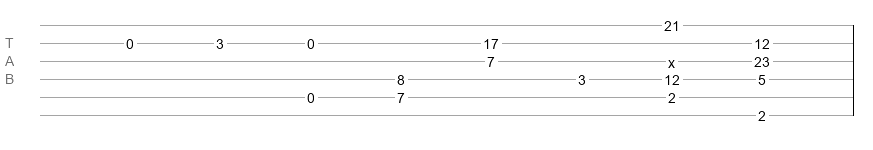0: (126, 36, 134, 46), (307, 90, 315, 100), (307, 36, 315, 46)
12: (664, 72, 680, 82), (754, 36, 770, 46)
17: (483, 36, 499, 46)
2: (668, 90, 676, 100), (758, 108, 766, 118)
21: (664, 18, 680, 28)
23: (754, 54, 770, 64)
3: (216, 36, 224, 46), (578, 72, 586, 82)
5: (758, 72, 766, 82)
7: (397, 90, 405, 100), (487, 54, 495, 64)
8: (397, 72, 405, 82)
x: (668, 55, 675, 63)
